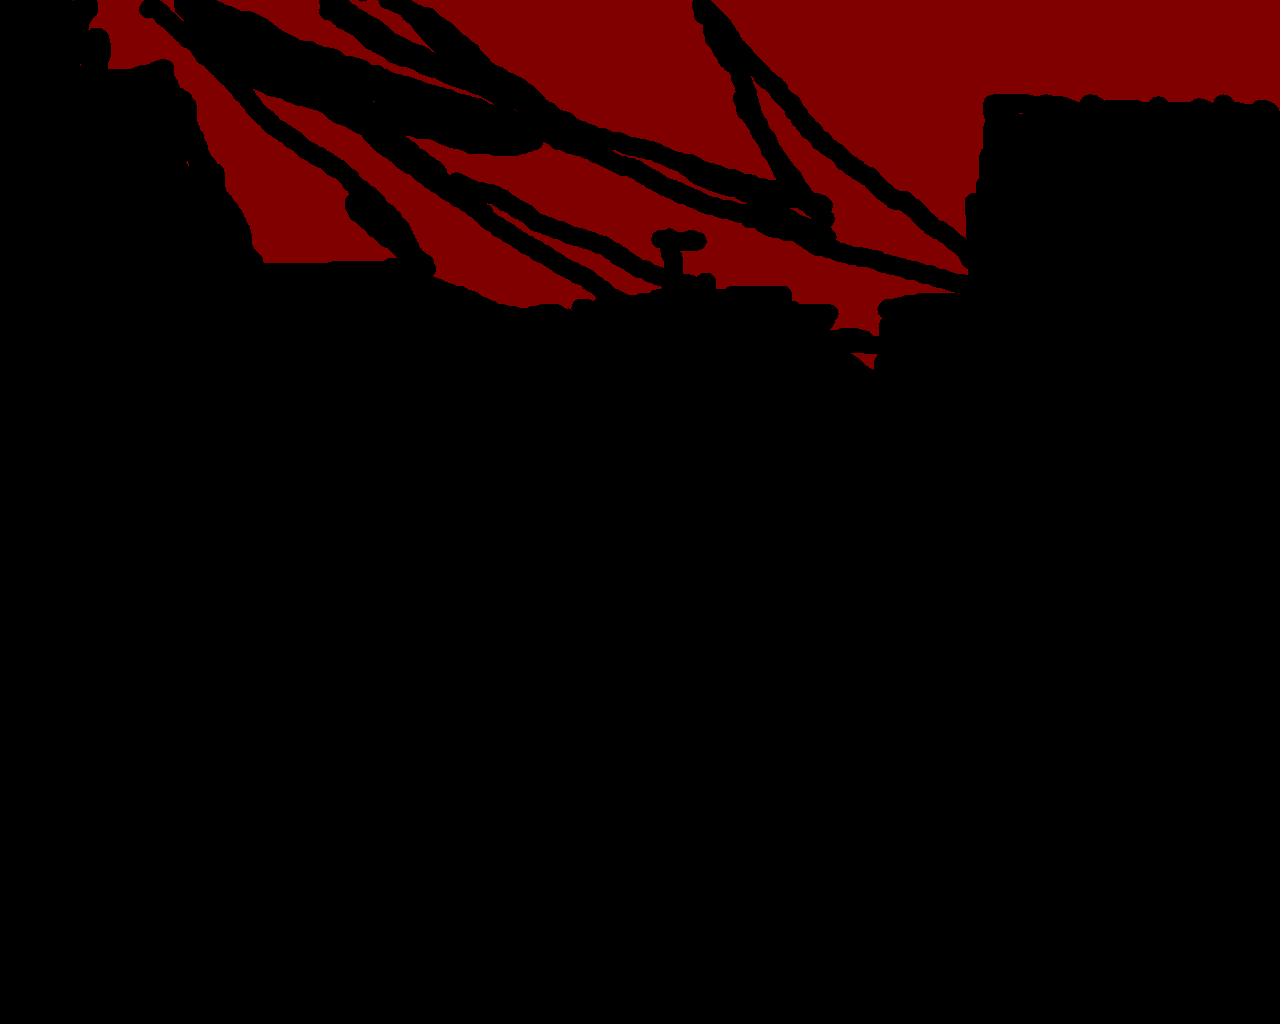Sky: (74, 1, 1279, 370)
